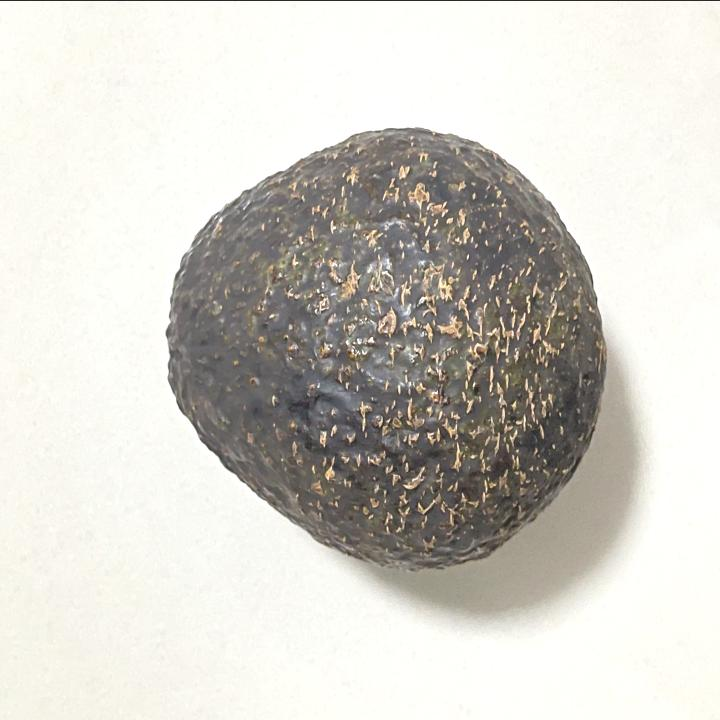Level2: (158, 122, 610, 574)
